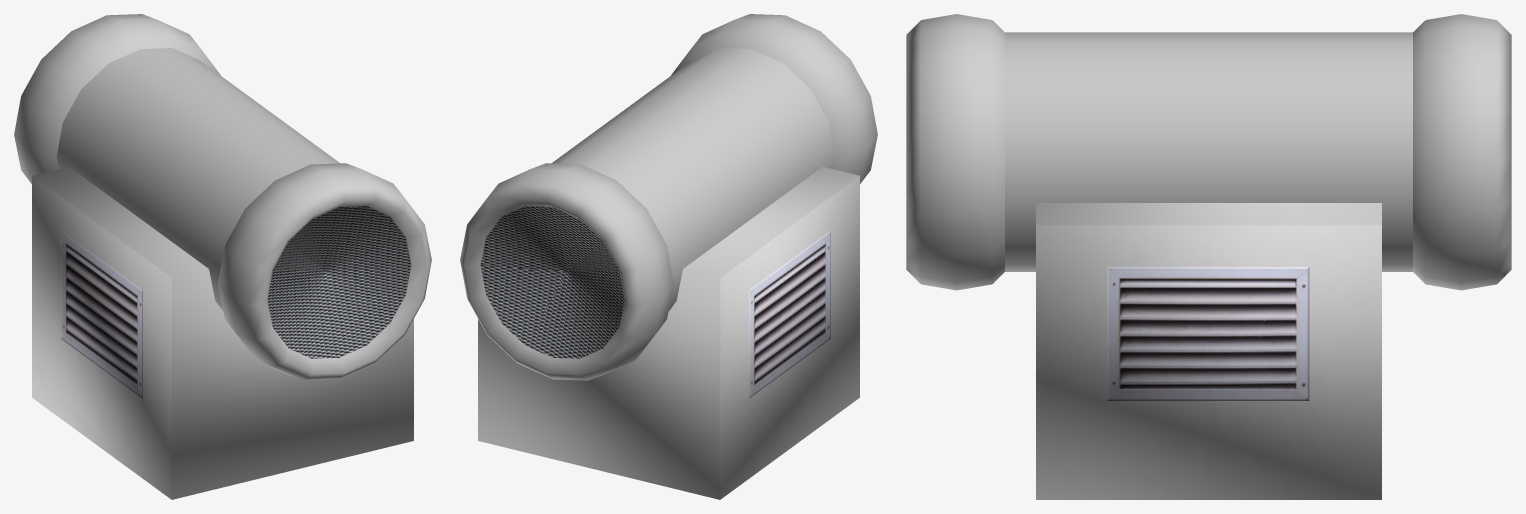
File: power_station.obj
3 renders of one model, left to right at view 1: azimuth 30°, elevation 25°; view 2: azimuth 150°, elevation 25°; view 3: azimuth 270°, elevation 25°, orthographic. The views are drawn at different scales.
Bounding box in the file's own units: 2 × 2.55 × 3.5.
